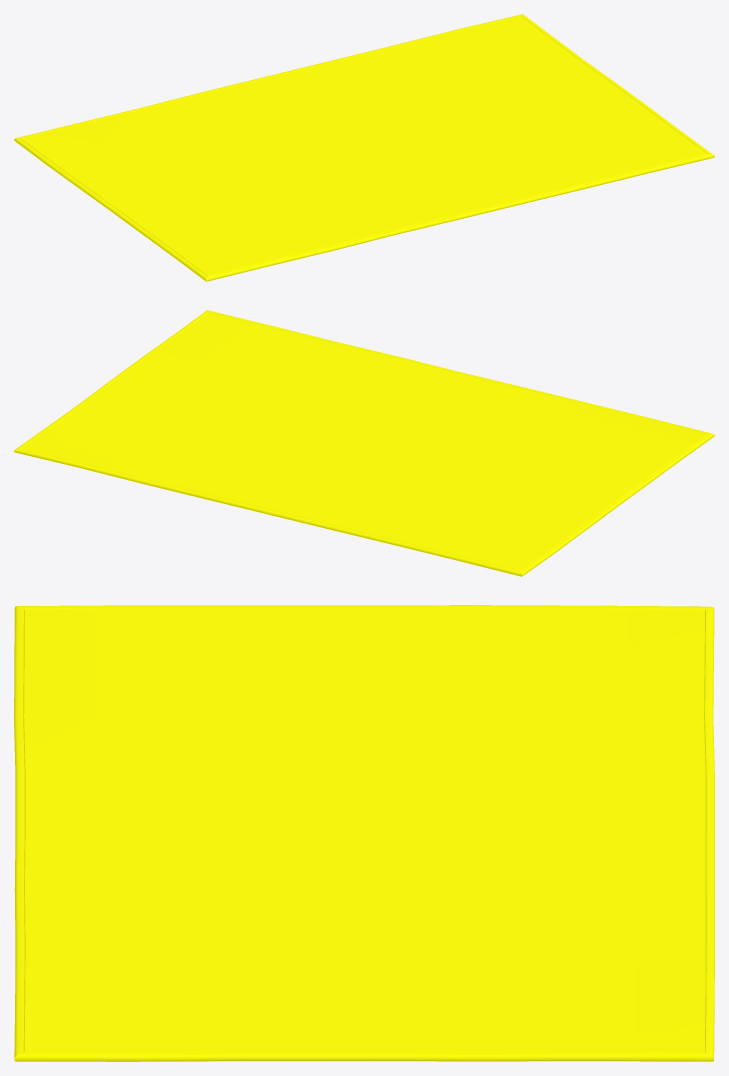
Rendered from SM_Carpet.glb.
3 renders of one model, top to bottom at view 1: azimuth 30°, elevation 25°; view 2: azimuth 150°, elevation 25°; view 3: azimuth 270°, elevation 25°, orthographic. The views are drawn at different scales.
Visible parts, largest first — view 1: SM_Carpet; view 2: SM_Carpet; view 3: SM_Carpet.
Boxes of the visible parts, bbox=[...] form: SM_Carpet: bbox=[14, 14, 714, 281]; SM_Carpet: bbox=[14, 310, 714, 576]; SM_Carpet: bbox=[14, 605, 714, 1061].
Size of what is drawn, in the model's own units: 3 by 0.0266 by 1.96.
Materials: 1 (1 with a texture image).
